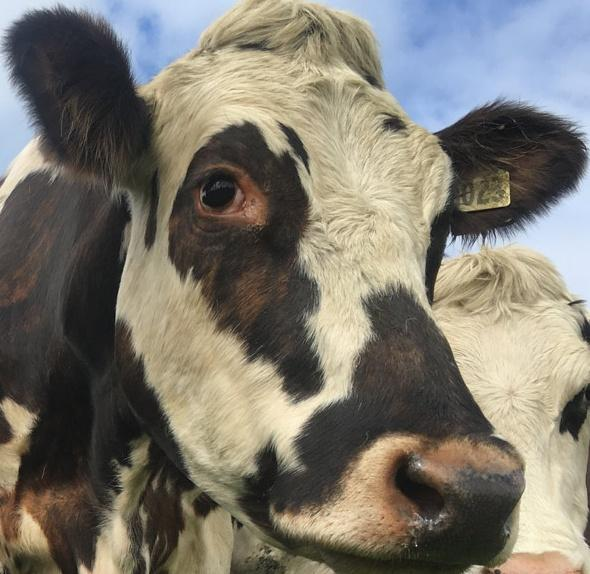muzzles: (283, 423, 532, 569)
